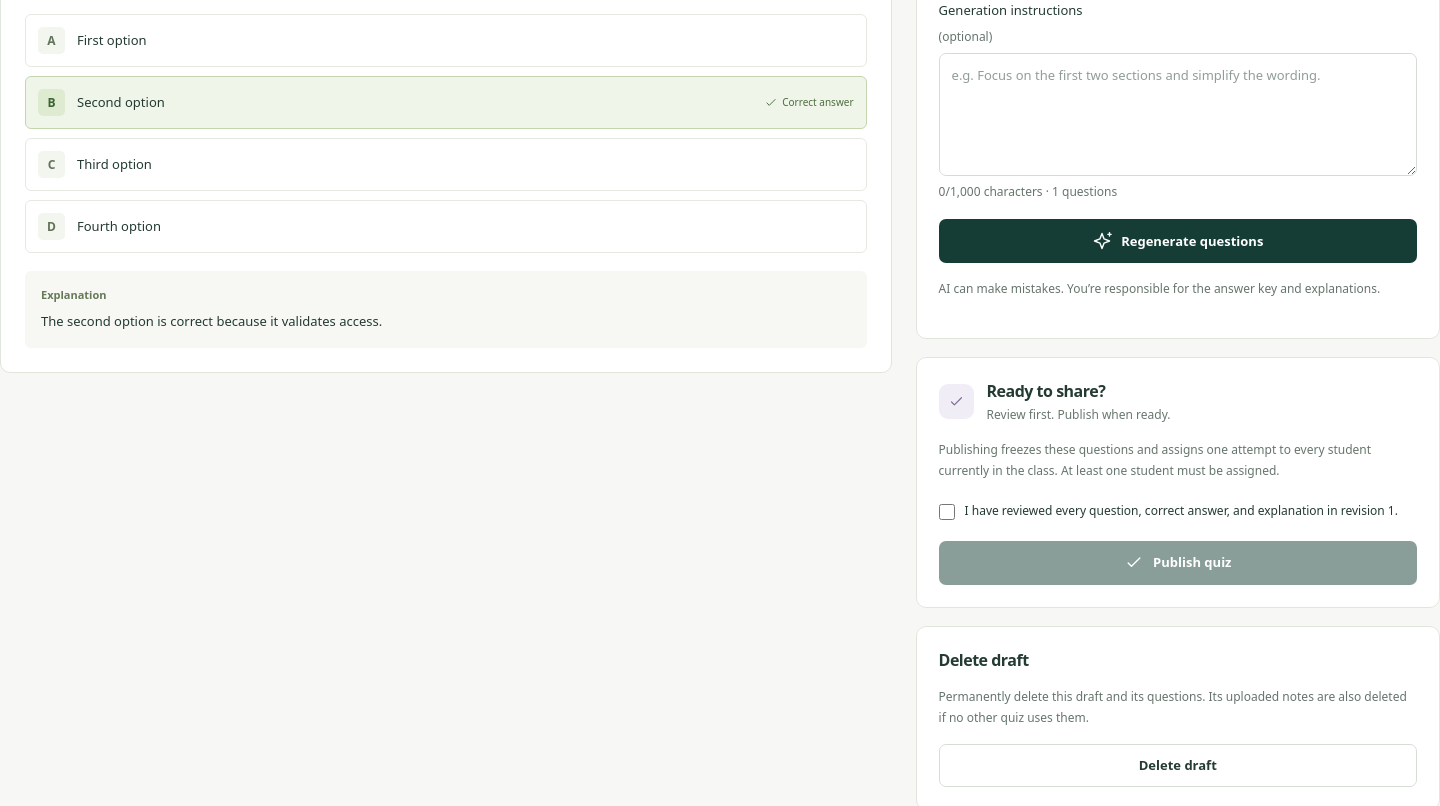
it: teacher draft review › clears review and reloads after a publication revision conflict
The width and height of the screenshot is (1440, 806).
(page scrolled)
Click the checkbox: (946, 512) [938, 504, 954, 520]
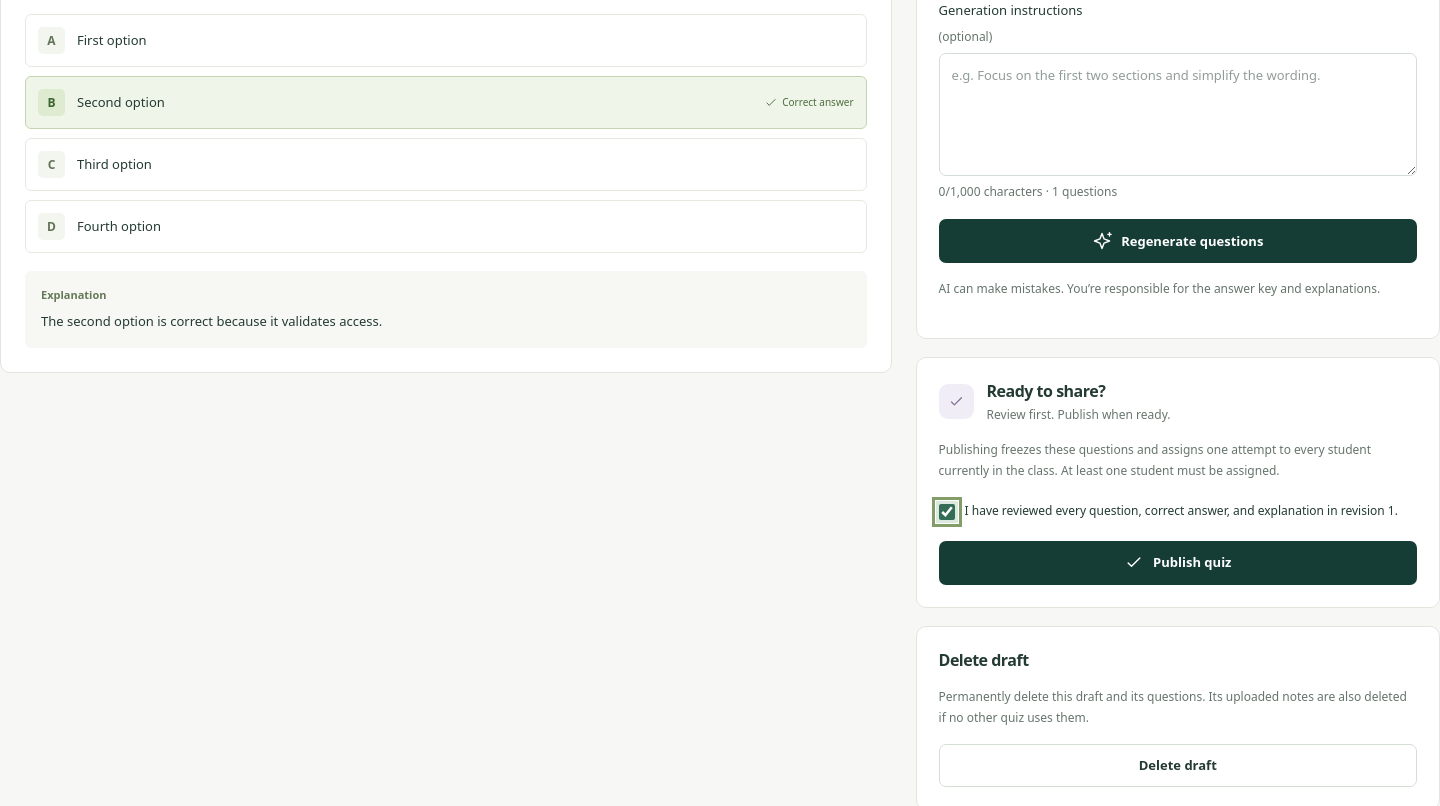
Click the button "Publish quiz": (1178, 563) [938, 541, 1417, 585]
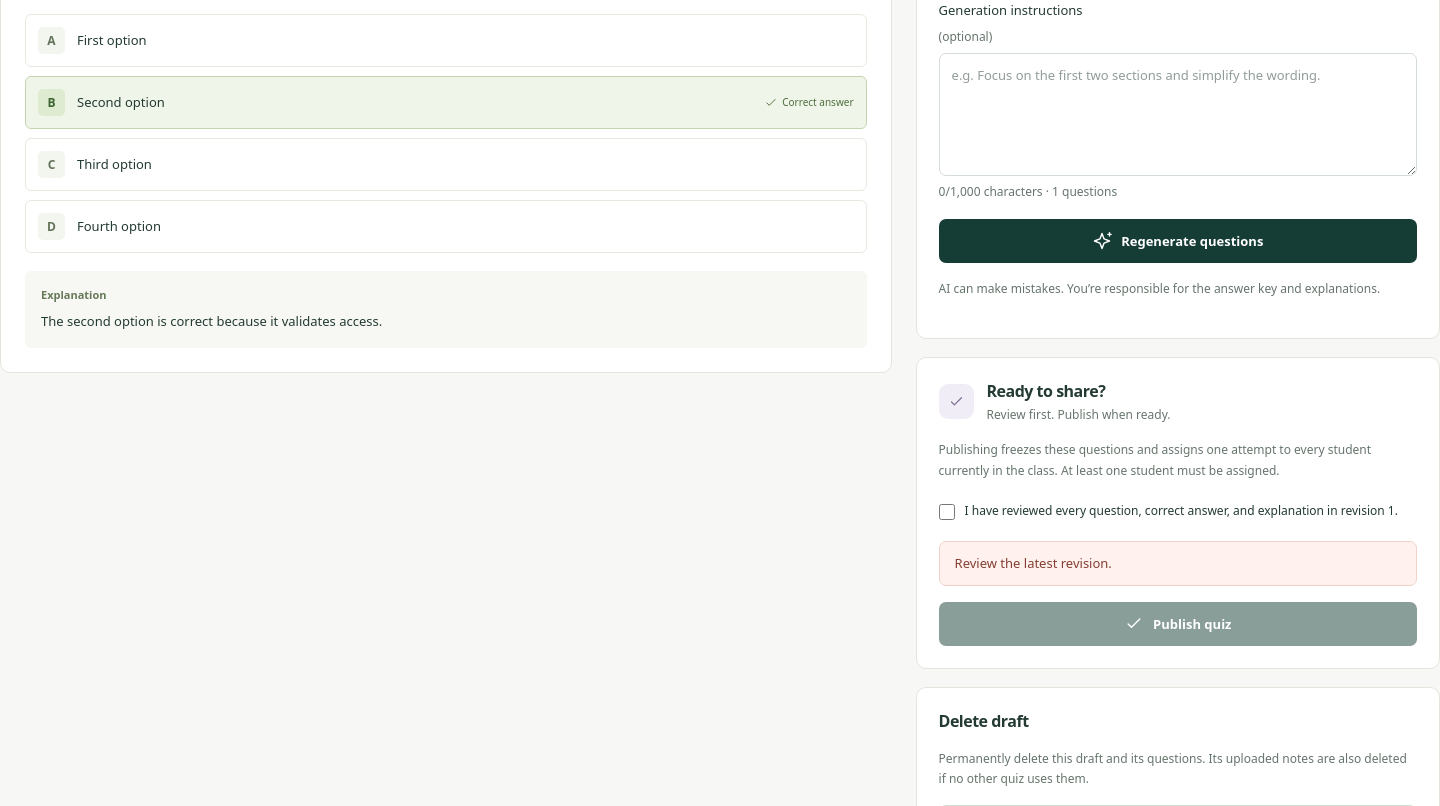
Expected: the checkbox is not checked, [938, 504, 954, 520]
Expected: the text "Review the latest revision." is shown, [938, 541, 1417, 586]
